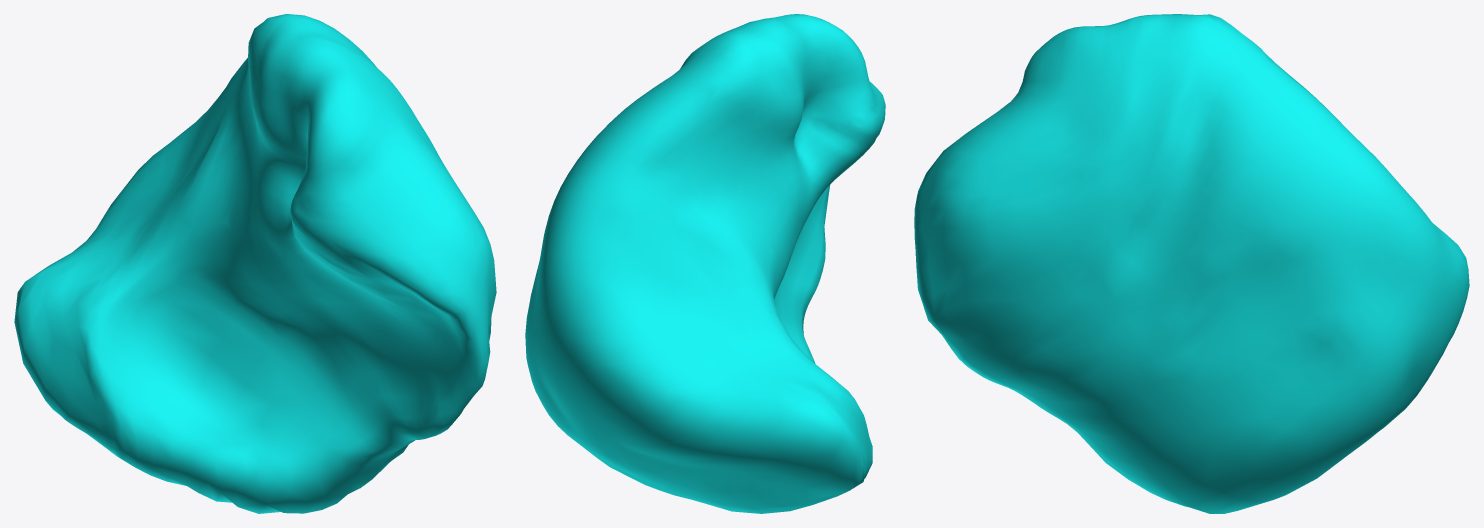
The model's file is Spleen.fbx.
3 views of the same model, side by side, from view 1: azimuth 30°, elevation 25°; view 2: azimuth 150°, elevation 25°; view 3: azimuth 270°, elevation 25° (orthographic). The views are drawn at different scales.
Visible parts, largest first — view 1: Spleen; view 2: Spleen; view 3: Spleen.
Boxes of the visible parts, x1=… form: Spleen: x1=14, y1=14, x2=496, y2=513; Spleen: x1=525, y1=14, x2=885, y2=513; Spleen: x1=914, y1=14, x2=1469, y2=513.
Size of the model in its own units: 79.87 by 104 by 112.
